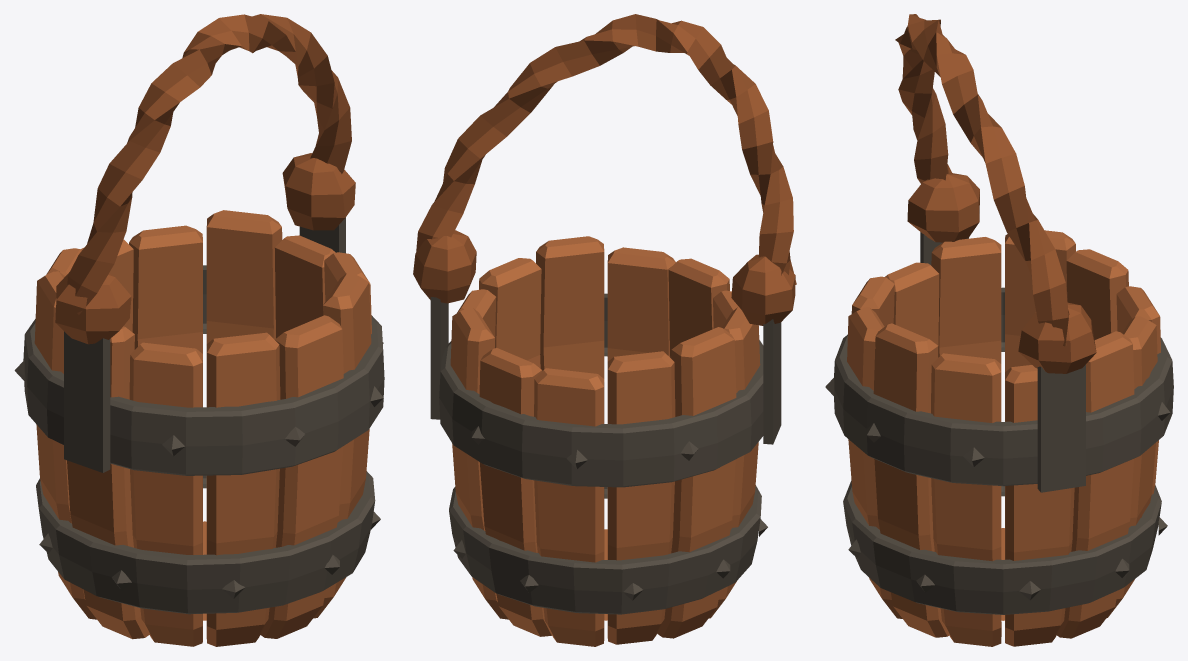
File: water-bucket-empty.glb
The picture shows the model from 3 angles, left to right: view 1: azimuth 30°, elevation 25°; view 2: azimuth 150°, elevation 25°; view 3: azimuth 270°, elevation 25°; orthographic projection. The views are drawn at different scales.
Visible parts, largest first — view 1: staves, hoops, rope_handle, rope_knots, ears, rivets; view 2: staves, hoops, rope_handle, rope_knots, ears, rivets; view 3: staves, hoops, rope_handle, rope_knots, ears, rivets.
Boxes of the visible parts, box(x1,y1,x2,y2) form: staves: box(34, 210, 371, 646); hoops: box(23, 265, 384, 614); rope_handle: box(67, 14, 351, 315); rope_knots: box(55, 153, 355, 344); ears: box(64, 217, 345, 472); rivets: box(14, 342, 383, 598); staves: box(450, 236, 760, 646); hoops: box(439, 293, 763, 614); rope_handle: box(416, 14, 796, 284); rope_knots: box(413, 230, 795, 325); ears: box(430, 297, 781, 444); rivets: box(453, 426, 767, 600); staves: box(847, 230, 1160, 646); hoops: box(834, 287, 1173, 614); rope_handle: box(895, 14, 1069, 346); rope_knots: box(907, 172, 1096, 373); ears: box(920, 232, 1085, 492); rivets: box(825, 378, 1170, 600).
Size of the model in its own units: 0.4405 by 0.7328 by 0.4073.
